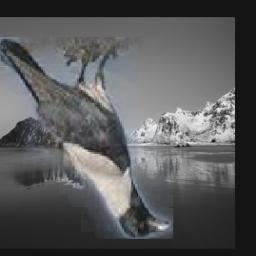Crow: (0, 38, 173, 240)
